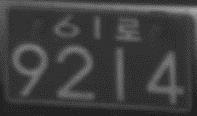1: (104, 46, 138, 102), (86, 15, 110, 38)
2: (55, 44, 95, 102)
4: (145, 50, 185, 105)
6: (53, 12, 80, 38)
9: (11, 42, 50, 95)
로: (115, 16, 141, 43)
